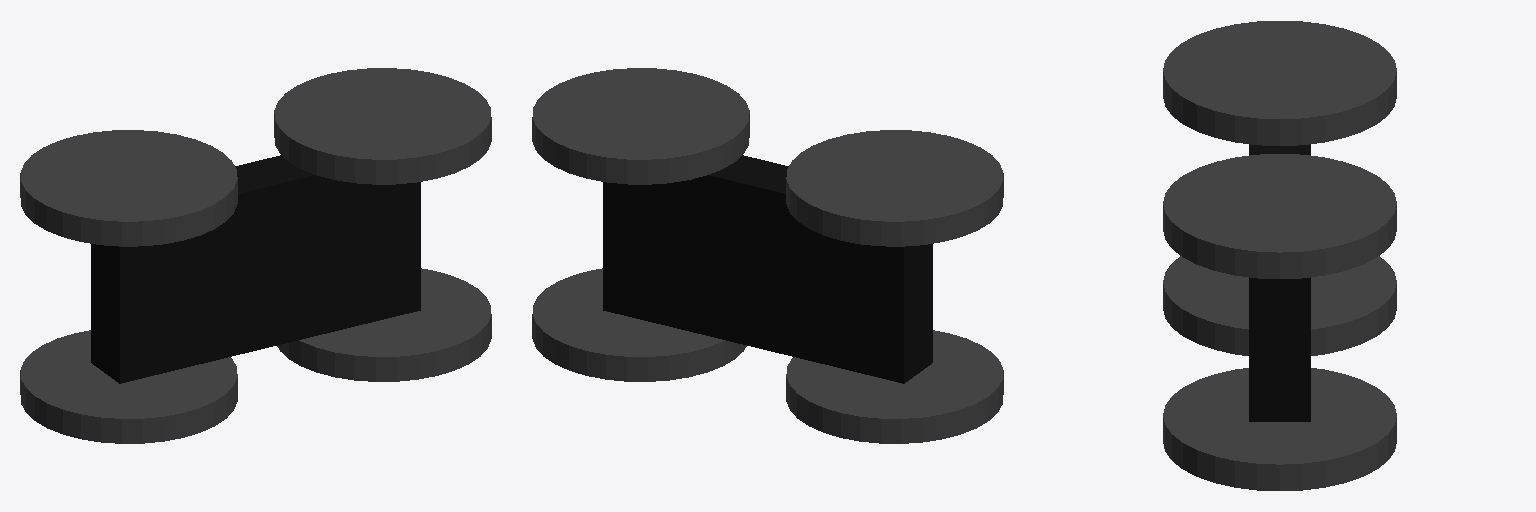
The robot description file, URDF, robot "rover":
<?xml version='1.0' encoding='utf-8'?>
<robot name="rover">
	<link name="body_rover0">
		<collision group="default">
        	<origin rpy="0 0 0" xyz="0 0 0" />
        	<geometry>
           	<box size="0.960 .160 .490" />
        	</geometry>
      		</collision>
		<inertial>
		<mass value="40" />
  		<inertia ixx="3.29" ixy="0" ixz="0" iyy="3.16" iyz="0" izz="6.27" />
		</inertial>
  		<visual>
          	<origin rpy="0 0 0" xyz="0 0 0" />
          	<geometry>
            	<box size="0.960 .160 .490" />
          	</geometry>
			<material name="darkgray">
    			<color rgba="0.1 0.1 0.1 1.0"/>
  			</material>
  		</visual>
  	</link>


	<joint name="front_right_joint_rover0" type="continuous">
    	<parent link="body_rover0" />
      	<child link="front_right_wheel_rover0" />
      	<origin xyz=".404 0 .3" rpy="0 0 0" />
      	<axis xyz="0 0 1" />
	</joint>
	<link name="front_right_wheel_rover0">
		<collision group="default">
        	<origin rpy="0 0 0" xyz="0 0 0" />
        	<geometry>
           	<cylinder length="0.076" radius="0.3" />
        	</geometry>
      		</collision>
		<visual>
          	<origin rpy="0 0 0" xyz="0 0 0" />
          	<geometry>
            	<cylinder length="0.076" radius="0.3" />
          	</geometry>
  			<material name="silver">
    			<color rgba="0.3 0.3 0.3 1.0"/>
  			</material>
		</visual>
		<inertial>
      		<mass value="2" />
      		<inertia ixx="0.02" ixy="0.0" ixz="0.0" iyy="0.02" iyz="0.0" izz="0.02" />
    		</inertial>
	</link>

	<joint name="front_left_joint_rover0" type="continuous">
    	<parent link="body_rover0" />
      	<child link="front_left_wheel_rover0" />
      	<origin xyz=".404 0 -.3" rpy="0 0 0" />
      	<axis xyz="0 0 1" />
	</joint>
	<link name="front_left_wheel_rover0">
		<collision group="default">
        	<origin rpy="0 0 0" xyz="0 0 0" />
        	<geometry>
           	<cylinder length="0.076" radius="0.3" />
        	</geometry>
      		</collision>
		<visual>
          	<origin rpy="0 0 0" xyz="0 0 0" />
          	<geometry>
            	<cylinder length="0.076" radius="0.3" />
          	</geometry>
  			<material name="silver">
    			<color rgba="0.3 0.3 0.3 1.0"/>
  			</material>
		</visual>
		<inertial>
      		<mass value="10" />
      		<inertia ixx="0.02" ixy="0.0" ixz="0.0" iyy="0.02" iyz="0.0" izz="0.02" />
    		</inertial>
	</link>

	<joint name="back_right_joint_rover0" type="continuous">
    	<parent link="body_rover0" />
      	<child link="back_right_wheel_rover0" />
      	<origin xyz="-.404 0 .3" rpy="0 0 0" />
      	<axis xyz="0 0 1" />
	</joint>
	<link name="back_right_wheel_rover0">
		<collision group="default">
        	<origin rpy="0 0 0" xyz="0 0 0" />
        	<geometry>
           	<cylinder length="0.076" radius="0.3" />
        	</geometry>
      		</collision>
		<visual>
          	<origin rpy="0 0 0" xyz="0 0 0" />
          	<geometry>
            	<cylinder length="0.076" radius="0.3" />
          	</geometry>
  			<material name="silver">
    			<color rgba="0.3 0.3 0.3 1.0"/>
  			</material>
		</visual>
		<inertial>
      		<mass value="2" />
      		<inertia ixx="0.02" ixy="0.0" ixz="0.0" iyy="0.02" iyz="0.0" izz="0.02" />
    		</inertial>
	</link>

	<joint name="back_left_joint_rover0" type="continuous">
    	<parent link="body_rover0" />
      	<child link="back_left_wheel_rover0" />
      	<origin xyz="-.404 0 -.3" rpy="0 0 0" />
      	<axis xyz="0 0 1" />
	</joint>
	<link name="back_left_wheel_rover0">
		<collision group="default">
        	<origin rpy="0 0 0" xyz="0 0 0" />
        	<geometry>
           	<cylinder length="0.076" radius="0.3" />
        	</geometry>
      		</collision>
		<visual>
          	<origin rpy="0 0 0" xyz="0 0 0" />
          	<geometry>
            	<cylinder length="0.076" radius="0.3" />
          	</geometry>
  			<material name="silver">
    			<color rgba="0.3 0.3 0.3 1.0"/>
  			</material>
		</visual>
		<inertial>
      		<mass value="2" />
      		<inertia ixx="0.02" ixy="0.0" ixz="0.0" iyy="0.02" iyz="0.0" izz="0.02" />
    		</inertial>
	</link>

  	<joint name="probe_joint_rover0" type="prismatic">
		<parent link="body_rover0" />
		<child link="probe_rover0" />
		<origin xyz="0 0 0" rpy="-1.5707 0 0" />
		<limit effort="1000" lower="-0.707" upper="0.707" velocity="300" />
  	</joint>

	<link name="probe_rover0">
		<collision group="default">
        	<origin rpy="0 0 0" xyz="0 0 0" />
        	<geometry>
           	<cylinder length=".4" radius="0.05" />
        	</geometry>
      		</collision>
		<visual>
          	<origin rpy="0 0 0" xyz="0 0 0" />
          	<geometry>
            	<cylinder length=".15" radius="0.05" />
          	</geometry>
          	<material name="black">
              	<color rgba="0 0 0 1" />
          	</material>
		</visual>
		<inertial>
      		<mass value="2" />
      		<inertia ixx="0.02" ixy="0.0" ixz="0.0" iyy="0.02" iyz="0.0" izz="0.02" />
    		</inertial>
	</link>
</robot>

--- Render facts (derived) ---
The picture shows the robot from 3 angles, left to right: view 1: azimuth 30°, elevation 25°; view 2: azimuth 150°, elevation 25°; view 3: azimuth 270°, elevation 25°; orthographic projection.
Robot: rover — 6 links, 5 joints (4 continuous, 1 prismatic); root link body_rover0; default pose: all joints at 0.
Links seen in each view (by area): view 1: body_rover0, front_right_wheel_rover0, back_right_wheel_rover0, back_left_wheel_rover0, front_left_wheel_rover0; view 2: body_rover0, front_right_wheel_rover0, back_right_wheel_rover0, back_left_wheel_rover0, front_left_wheel_rover0; view 3: back_right_wheel_rover0, front_right_wheel_rover0, front_left_wheel_rover0, back_left_wheel_rover0, body_rover0.
Boxes of the visible links, x1=… form: body_rover0: x1=91, y1=155, x2=420, y2=383; front_right_wheel_rover0: x1=274, y1=68, x2=491, y2=184; back_right_wheel_rover0: x1=20, y1=130, x2=237, y2=246; back_left_wheel_rover0: x1=20, y1=330, x2=237, y2=443; front_left_wheel_rover0: x1=277, y1=268, x2=491, y2=381; body_rover0: x1=603, y1=155, x2=932, y2=383; front_right_wheel_rover0: x1=532, y1=68, x2=749, y2=184; back_right_wheel_rover0: x1=786, y1=130, x2=1003, y2=246; back_left_wheel_rover0: x1=786, y1=330, x2=1003, y2=443; front_left_wheel_rover0: x1=532, y1=268, x2=746, y2=381; back_right_wheel_rover0: x1=1163, y1=21, x2=1396, y2=145; front_right_wheel_rover0: x1=1163, y1=154, x2=1396, y2=278; front_left_wheel_rover0: x1=1163, y1=368, x2=1396, y2=490; back_left_wheel_rover0: x1=1163, y1=256, x2=1396, y2=355; body_rover0: x1=1249, y1=144, x2=1310, y2=421.
Size in the robot's own frame: 1.41 by 0.6 by 0.676 metres.
Geometry: primitives only (box / cylinder / sphere), no mesh files.
